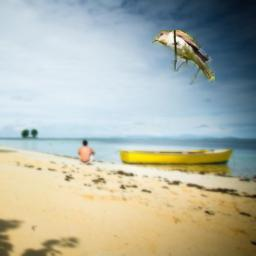Cuckoo: (152, 30, 215, 85)
